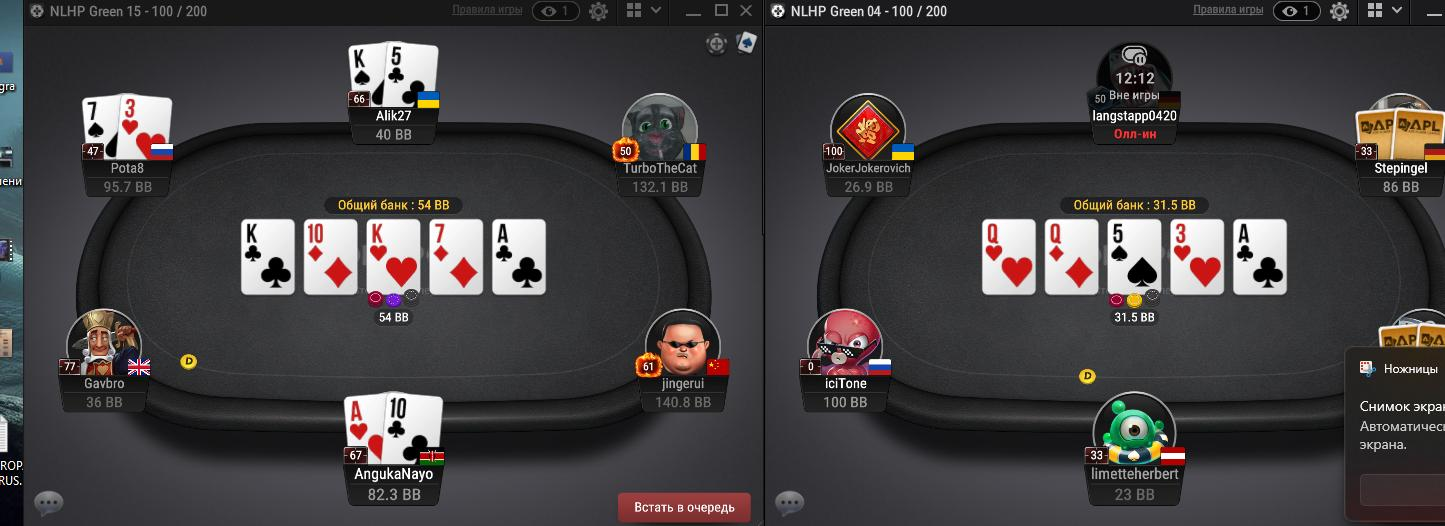10c: (384, 391, 444, 468)
10d: (305, 220, 355, 294)
3h: (1170, 220, 1225, 295), (119, 93, 174, 161)
5c: (387, 43, 438, 107)
5s: (1108, 219, 1161, 292)
7d: (429, 219, 483, 291)
7s: (81, 96, 119, 158)
Ac: (1233, 218, 1286, 297), (492, 218, 547, 294)
Ah: (344, 393, 387, 466)
Kc: (241, 220, 297, 295)
Kh: (367, 219, 422, 294)
Ks: (348, 41, 387, 107)
Qd: (1044, 218, 1100, 296)
Qh: (983, 219, 1037, 297)
